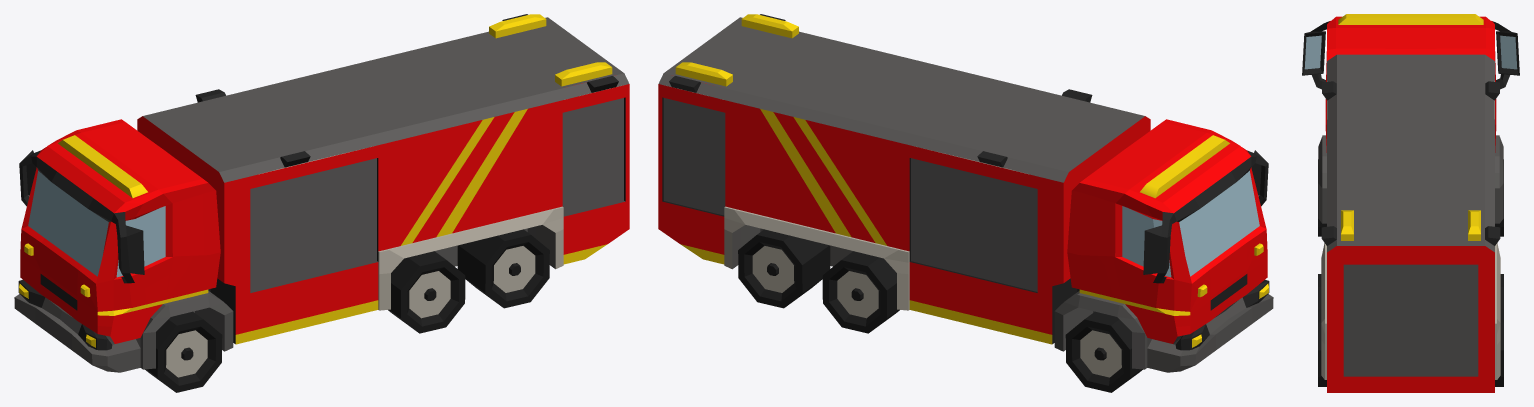
The model's file is FireTruck3.fbx.
The picture shows the model from 3 angles, left to right: view 1: azimuth 30°, elevation 25°; view 2: azimuth 150°, elevation 25°; view 3: azimuth 270°, elevation 25°; orthographic projection. The views are drawn at different scales.
Parts seen in each view (by area): view 1: FireTruck3; view 2: FireTruck3; view 3: FireTruck3.
Part boxes in pixels (x1=…): FireTruck3: x1=14, y1=14, x2=629, y2=392; FireTruck3: x1=658, y1=14, x2=1273, y2=392; FireTruck3: x1=1302, y1=14, x2=1519, y2=392.
Size of the model in its own units: 852 by 323 by 312.
Materials: 1 (1 with a texture image).
